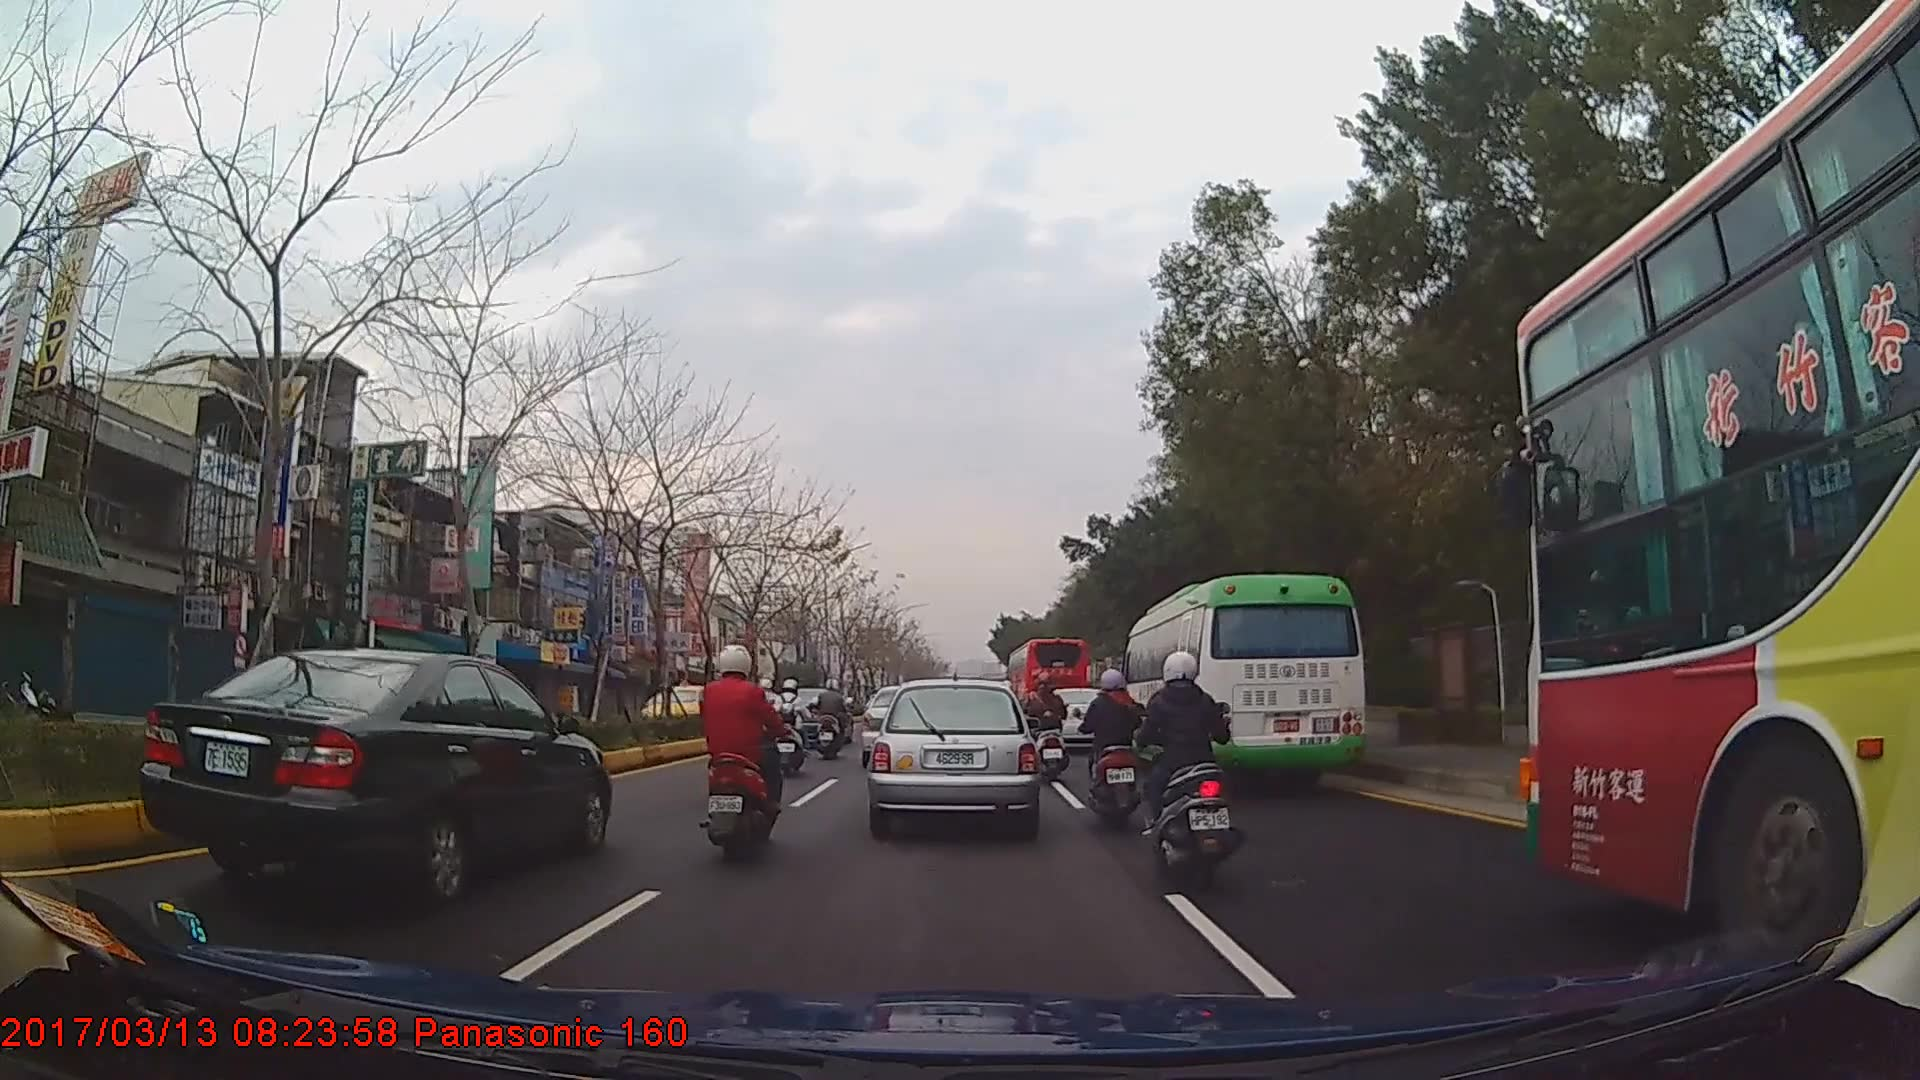rider: (1140, 649, 1248, 896), (692, 641, 781, 864), (1077, 664, 1148, 829), (1028, 669, 1071, 786), (772, 676, 814, 778), (817, 677, 856, 758), (752, 675, 793, 745)
vehicle: (1516, 0, 1920, 983), (133, 643, 612, 901), (1120, 573, 1367, 788), (866, 678, 1037, 834), (1006, 634, 1089, 729)
